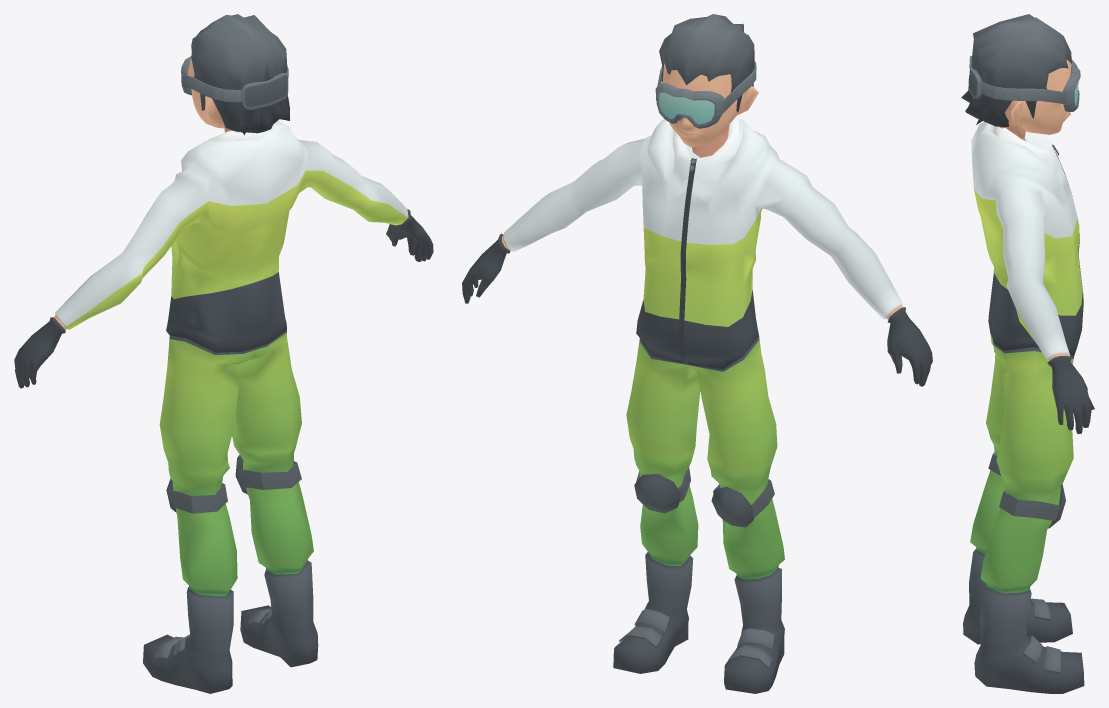
Rendered from skier_low_poly_character-t.glb.
3 views of the same model, side by side, from view 1: azimuth 30°, elevation 25°; view 2: azimuth 150°, elevation 25°; view 3: azimuth 270°, elevation 25° (orthographic).
Parts seen in each view (by area): view 1: ski man; view 2: ski man; view 3: ski man.
Part boxes in pixels (bbox=[...]): ski man: bbox=[14, 14, 433, 693]; ski man: bbox=[462, 14, 932, 693]; ski man: bbox=[961, 14, 1094, 693].
Bounding box in the file's own units: 2.07 × 2.92 × 0.5542.
Materials: 1 (1 with a texture image).
